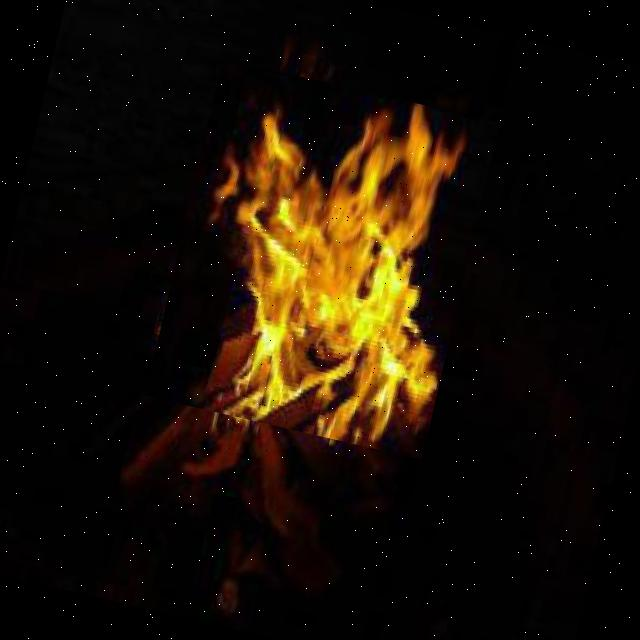fire: (145, 58, 500, 460)
